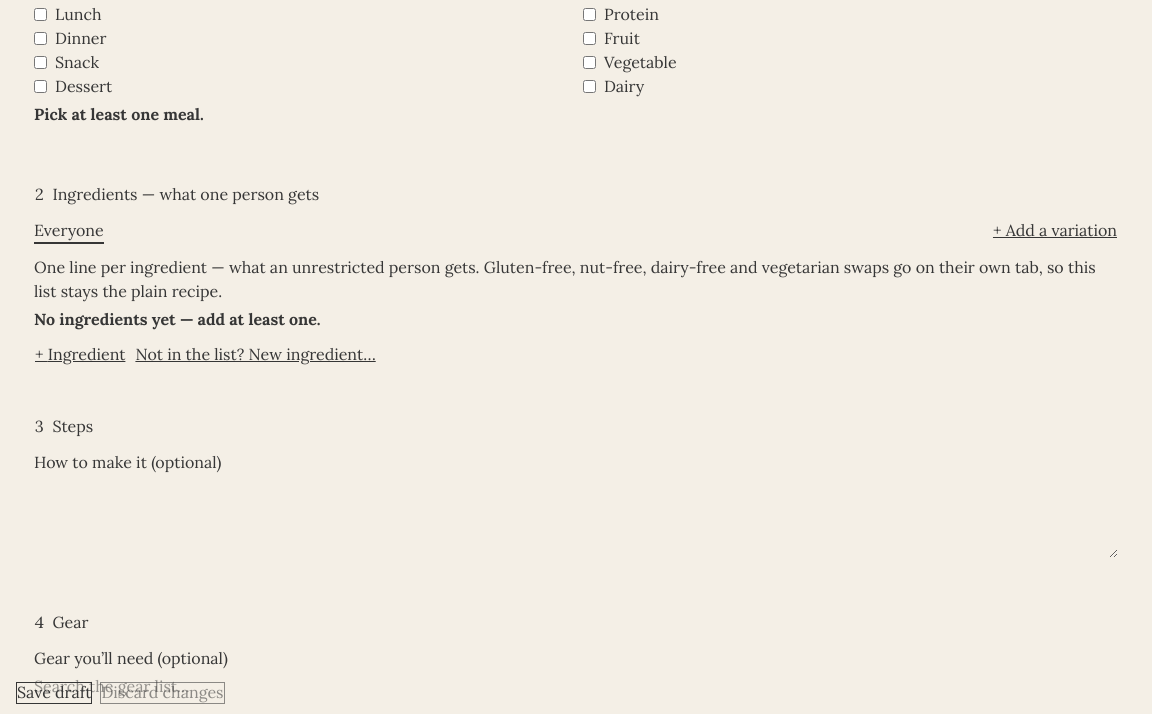
Test: Food & recipes — a single food › Leader_SeesThatANewIngredientSavesAtOnce
This screenshot has width=1152, height=714.
(page scrolled)
Click the button "Not in the list? New ingredient…". click: (256, 355)
box: [134,344,377,365]
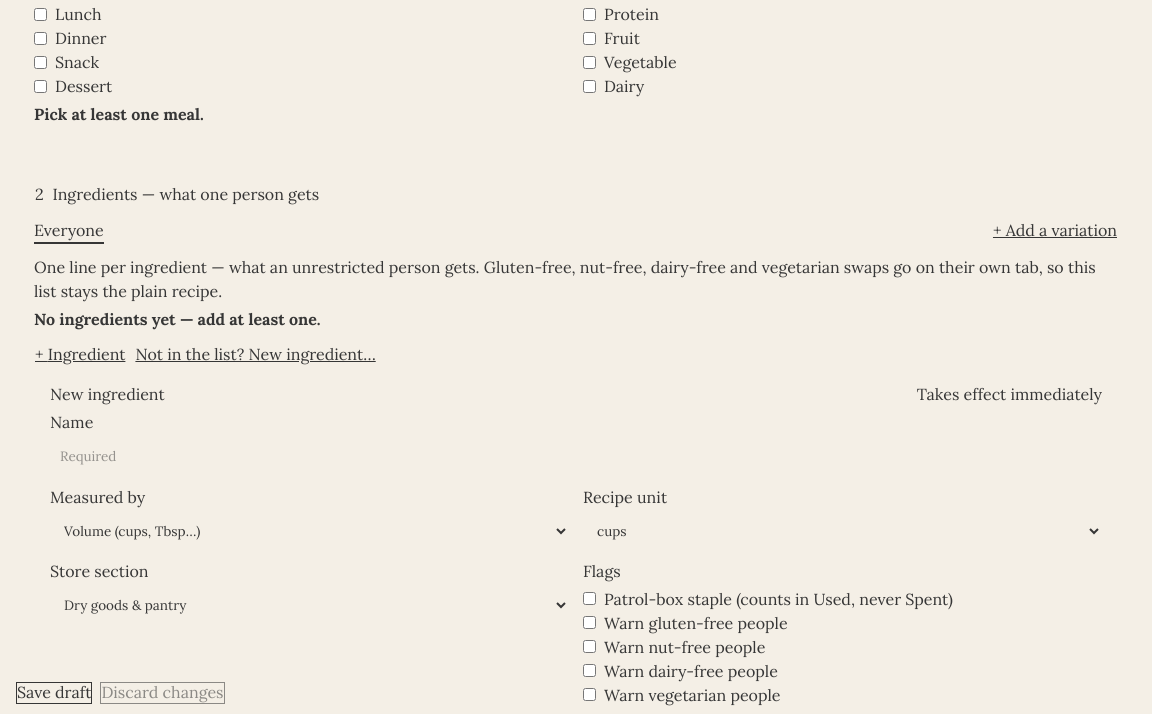
Check: the text "Takes effect immediately" is shown, box [917,382,1102,406]
Type "Cookies" into the field labelled "Name". click: (576, 457)
box: [50,438,1102,475]
(page scrolled)
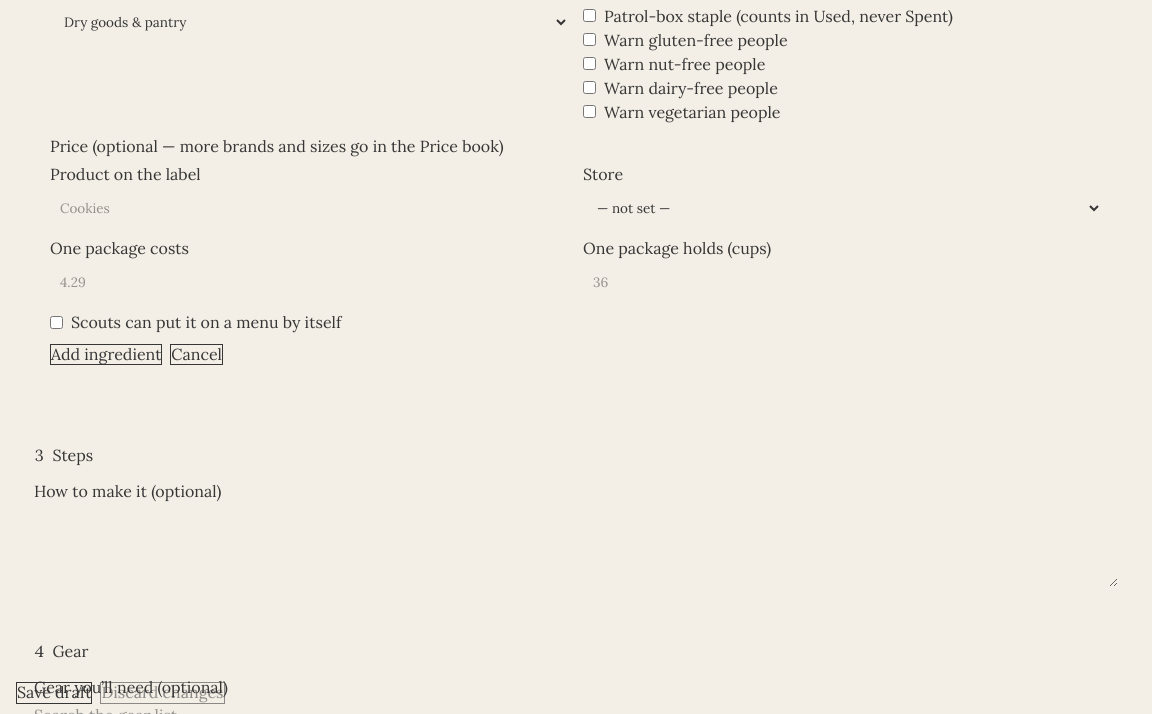
Click the button "Add ingredient". click: (106, 355)
box: [50,344,162,365]
(page scrolled)
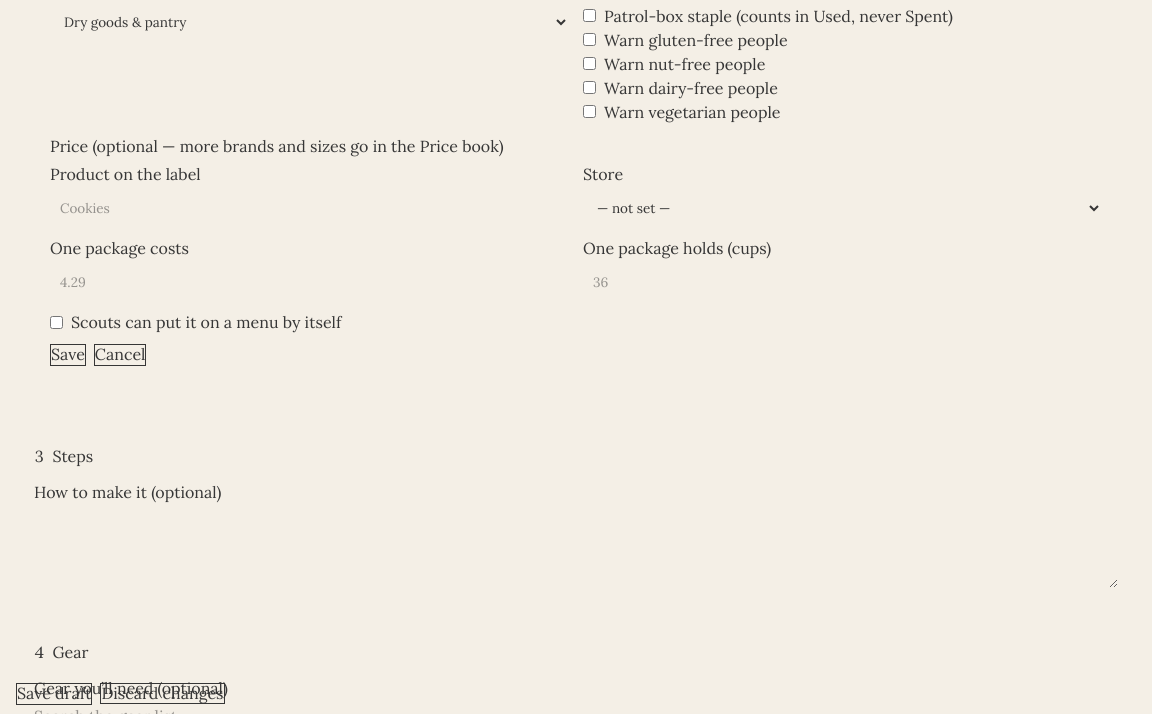
A partial save, then Cancel: one line says the food was kept, and names it.
Click the button "Cancel". click: (120, 355)
box: [94,344,146,366]
(page scrolled)
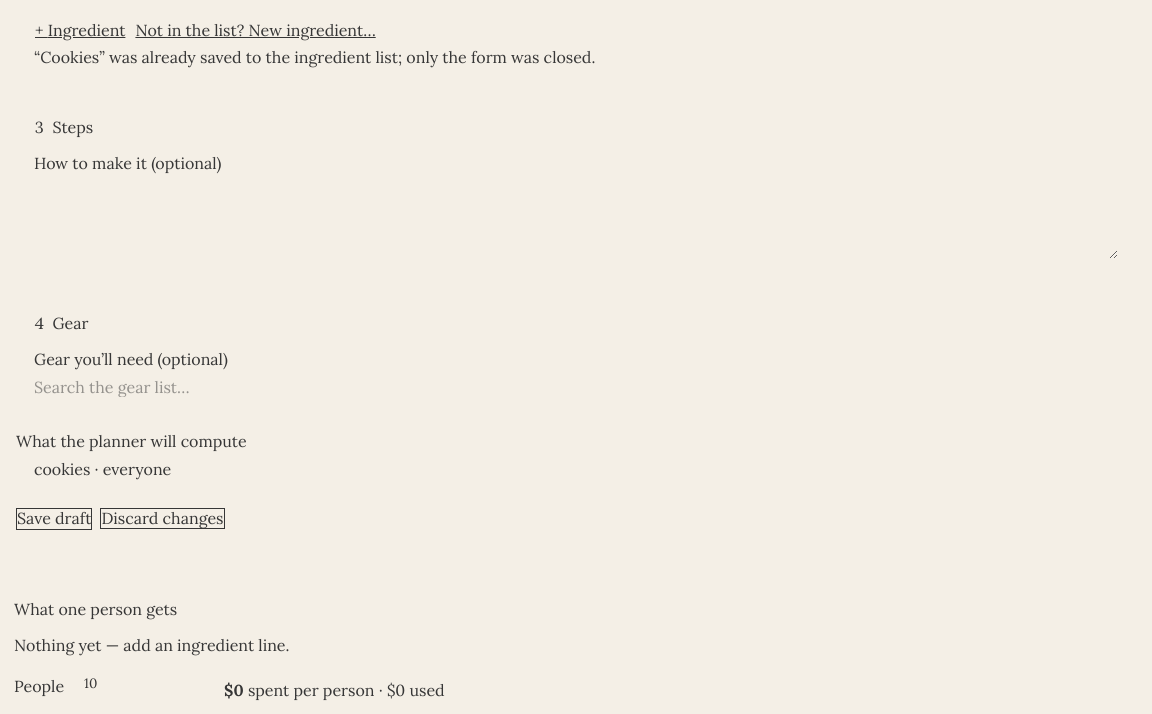
Check: the text "“Cookies” was already saved to the ingredient list; only the form was closed." is shown, box [34,47,595,67]
